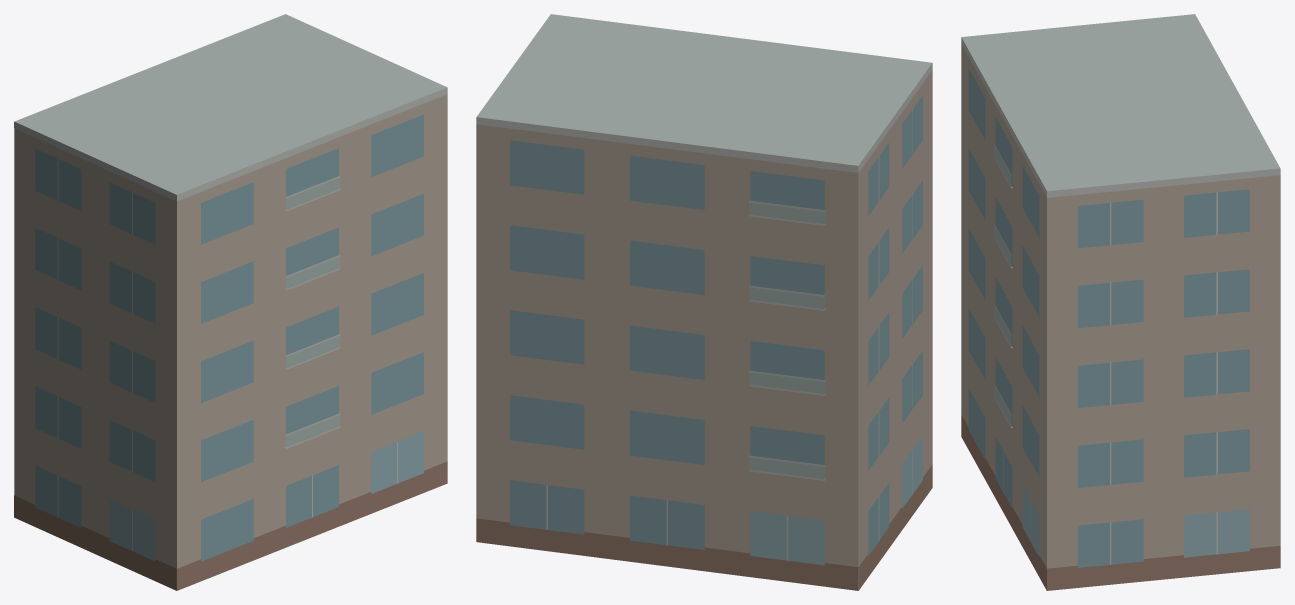
Rendered from survey-upis-32871439.glb.
3 views of the same model, side by side, from view 1: azimuth 30°, elevation 25°; view 2: azimuth 150°, elevation 25°; view 3: azimuth 270°, elevation 25° (orthographic). The views are drawn at different scales.
Parts seen in each view (by area): view 1: survey-upis-32871439.tmp; view 2: survey-upis-32871439.tmp; view 3: survey-upis-32871439.tmp.
Part boxes in pixels (bbox=[...]): survey-upis-32871439.tmp: bbox=[14, 14, 447, 590]; survey-upis-32871439.tmp: bbox=[476, 14, 932, 590]; survey-upis-32871439.tmp: bbox=[961, 14, 1280, 590].
Size of the model in its own units: 13.9 by 14.6 by 10.58.
